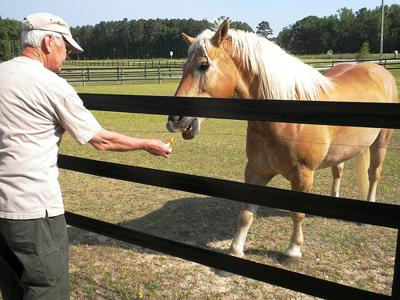person: (2, 12, 172, 300)
